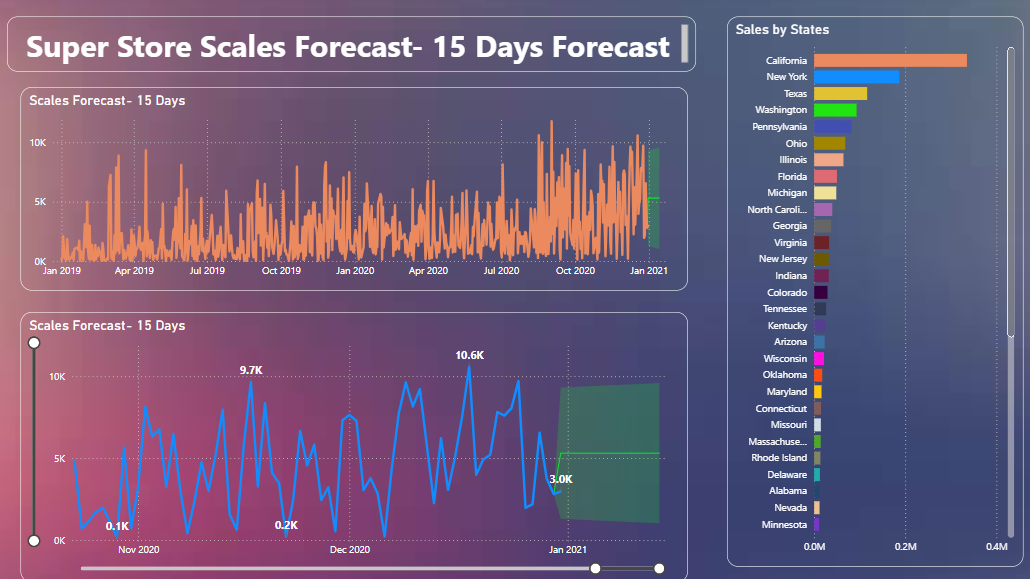

The dashboard page shown, as its layout file describes it:
{"tool":"powerbi","page":{"name":"Page 2","canvas":[1280,720],"ordinal":1},"visuals":[{"type":"lineChart","title":"Scales Forecast- 15 Days","fields":{"Y":["Sum(SuperStore_Sales_Dataset (2).Sales)"],"Category":["SuperStore_Sales_Dataset (2).Order Date"]},"box":[27.4,108.1,824.2,251.6],"z":0},{"type":"lineChart","title":"Scales Forecast- 15 Days","fields":{"Y":["Sum(SuperStore_Sales_Dataset (2).Sales)"],"Category":["SuperStore_Sales_Dataset (2).Order Date"]},"box":[27.4,385.5,824.2,333.9],"z":1000},{"type":"textbox","box":[11.1,20.6,850.8,68.3],"z":2000},{"type":"clusteredBarChart","title":"Sales by States","fields":{"Category":["SuperStore_Sales_Dataset (2).State"],"Y":["Sum(SuperStore_Sales_Dataset (2).Sales)"]},"box":[900,21,366.1,679],"z":3000}]}

Visuals, with their boxes in screenshot pixels (x1, y1, x2, y2), scaled from the page's 1280x720 canvas onto the 1030x579 screenshot:
"Scales Forecast- 15 Days" lineChart: left=22, top=87, right=685, bottom=289
"Scales Forecast- 15 Days" lineChart: left=22, top=310, right=685, bottom=578
textbox: left=9, top=17, right=694, bottom=71
"Sales by States" clusteredBarChart: left=724, top=17, right=1019, bottom=563
